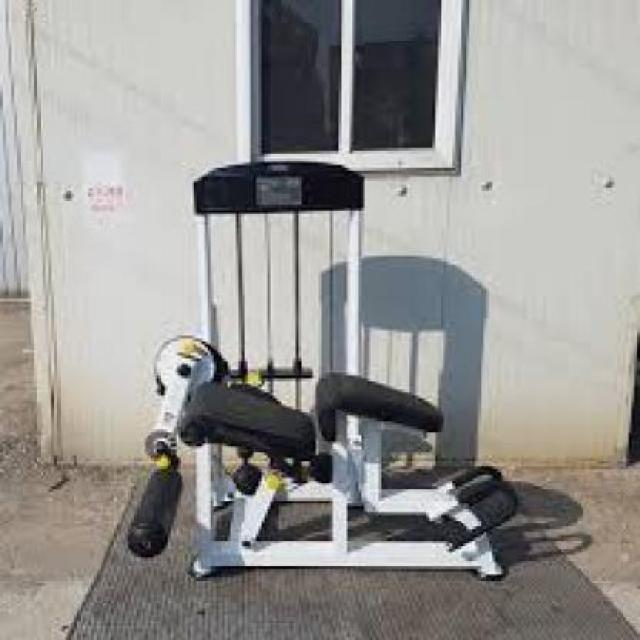reg curl machine: (126, 160, 520, 585)
